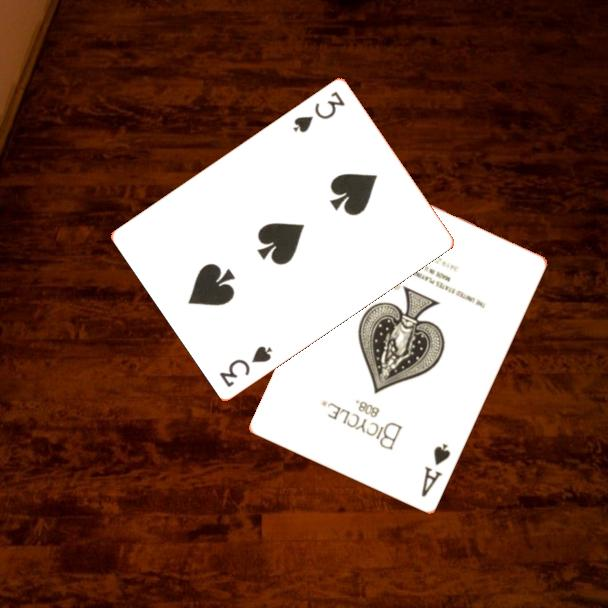s01: (418, 440, 454, 501)
s03: (215, 342, 275, 390), (290, 87, 348, 135)
